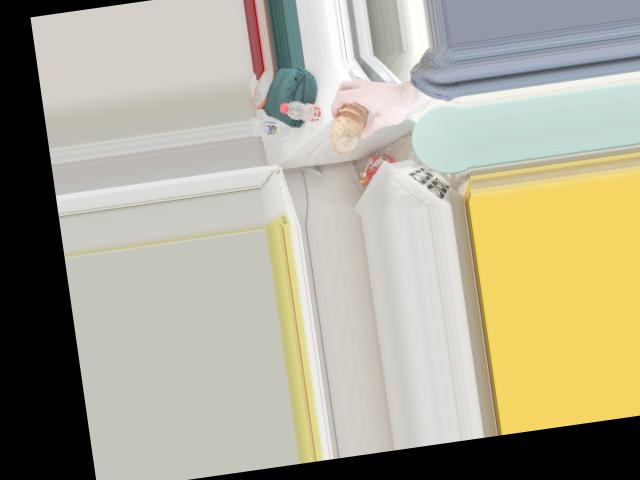sweet_potato: (323, 98, 372, 147)
